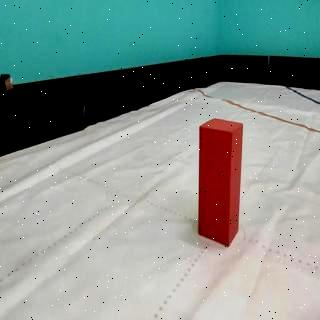redbox: (197, 118, 243, 248)
